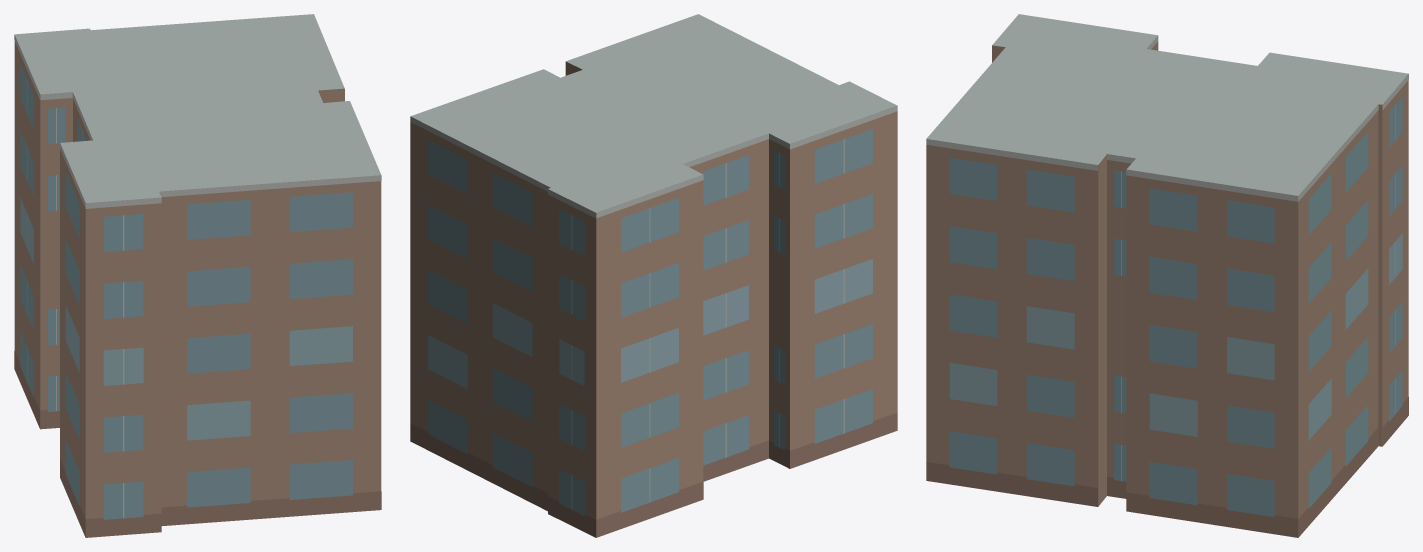
The model's file is survey-upis-32999624.glb.
The picture shows the model from 3 angles, left to right: view 1: azimuth 30°, elevation 25°; view 2: azimuth 150°, elevation 25°; view 3: azimuth 270°, elevation 25°; orthographic projection. The views are drawn at different scales.
Visible parts, largest first — view 1: survey-upis-32999624.tmp; view 2: survey-upis-32999624.tmp; view 3: survey-upis-32999624.tmp.
Boxes of the visible parts, x1,y1,x2,y2 form: survey-upis-32999624.tmp: [14, 14, 381, 537]; survey-upis-32999624.tmp: [410, 14, 897, 537]; survey-upis-32999624.tmp: [926, 14, 1408, 537].
Size of the model in its own units: 16.22 by 14.2 by 18.17.
